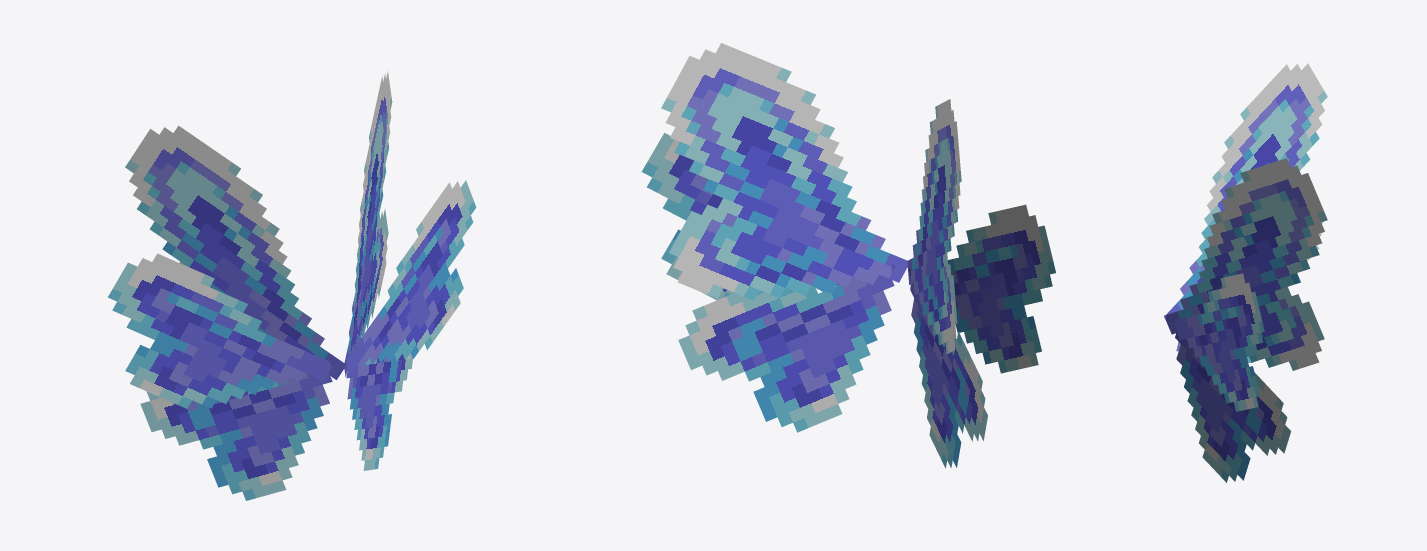
Rendered from sl_heart_wings.glb.
3 renders of one model, left to right at view 1: azimuth 30°, elevation 25°; view 2: azimuth 150°, elevation 25°; view 3: azimuth 270°, elevation 25°, orthographic. The views are drawn at different scales.
Visible parts, largest first — view 1: bb_heart_wings; view 2: bb_heart_wings; view 3: bb_heart_wings.
Boxes of the visible parts, x1,y1,x2,y2 form: bb_heart_wings: [108, 71, 476, 500]; bb_heart_wings: [641, 43, 1055, 468]; bb_heart_wings: [1164, 63, 1327, 482].
Size of the model in its own units: 3.05 by 2.75 by 1.78.
1 material, 1 textured.
